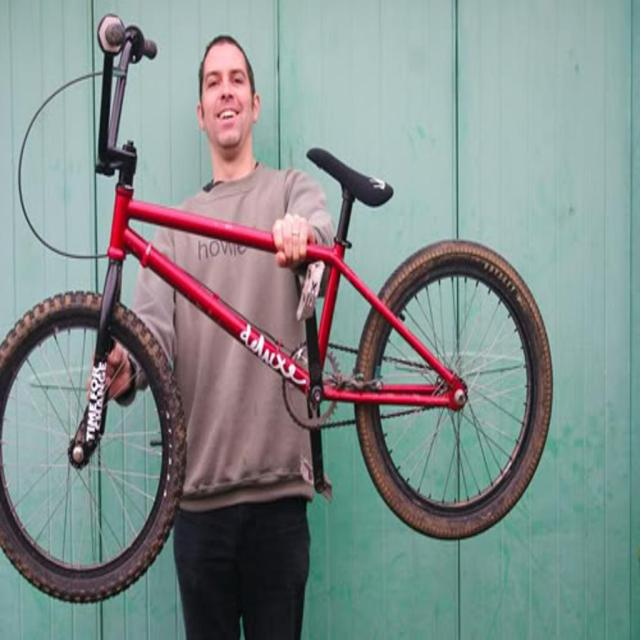Face: (205, 48, 257, 155)
